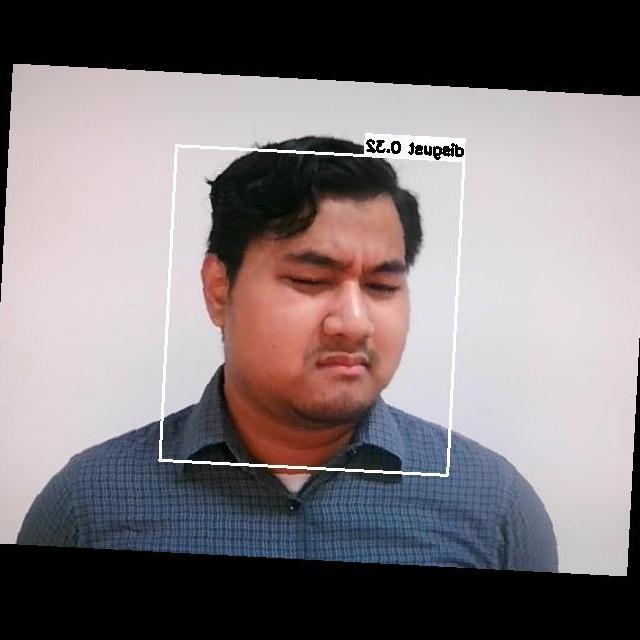Disgust: (259, 225, 423, 398)
